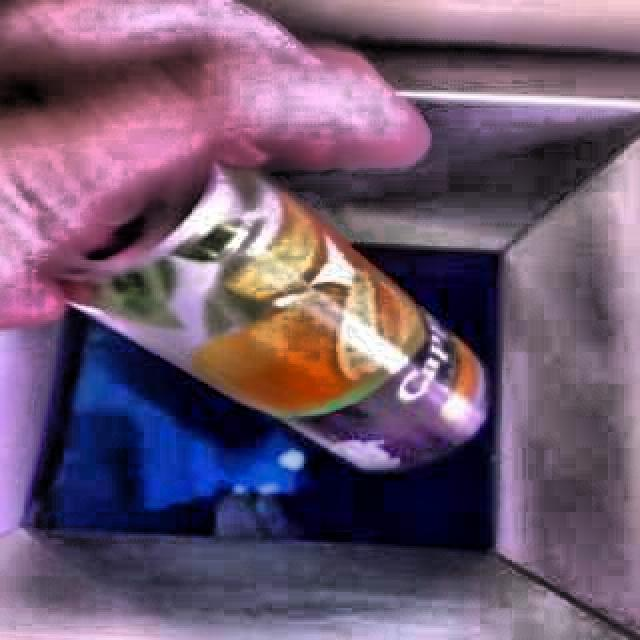metal: (67, 168, 488, 473)
